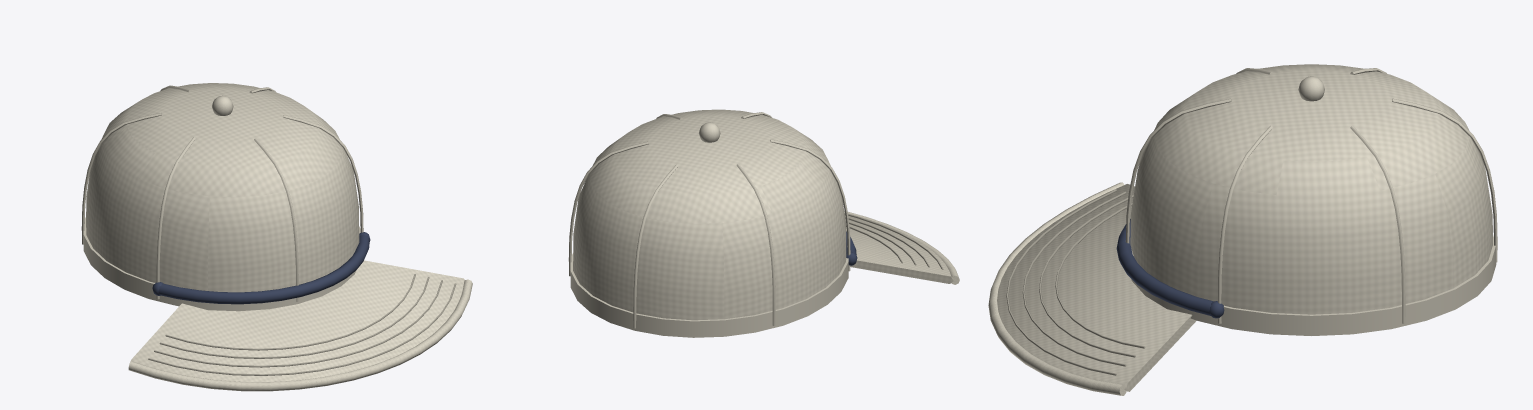
The model's file is pf_hat_structured.glb.
3 renders of one model, left to right at view 1: azimuth 30°, elevation 25°; view 2: azimuth 150°, elevation 25°; view 3: azimuth 270°, elevation 25°, orthographic. The views are drawn at different scales.
Parts seen in each view (by area): view 1: pf_hat_structured_body; view 2: pf_hat_structured_body; view 3: pf_hat_structured_body.
Boxes of the visible parts, <box> form: pf_hat_structured_body: <box>81,83,472,391</box>; pf_hat_structured_body: <box>568,109,959,337</box>; pf_hat_structured_body: <box>988,64,1497,395</box>.
Bounding box in the file's own units: 0.2626 × 0.138 × 0.2845.
5 materials, 1 textured.
